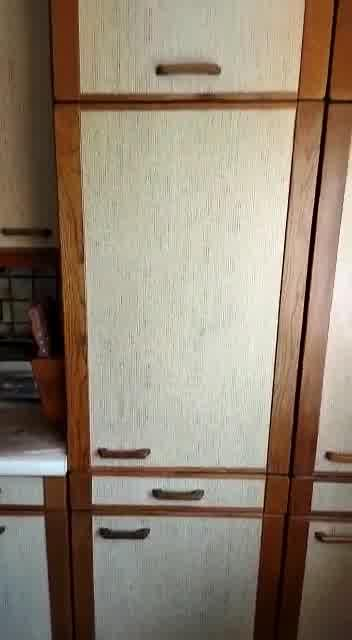cabinet_door: (62, 92, 309, 481), (35, 0, 337, 103), (71, 513, 281, 640), (299, 95, 351, 478), (0, 508, 68, 640), (282, 519, 351, 640)
handle: (151, 48, 224, 90), (95, 511, 153, 548), (95, 436, 151, 471), (1, 217, 56, 252), (148, 478, 207, 508), (313, 524, 352, 552), (321, 442, 352, 470)
